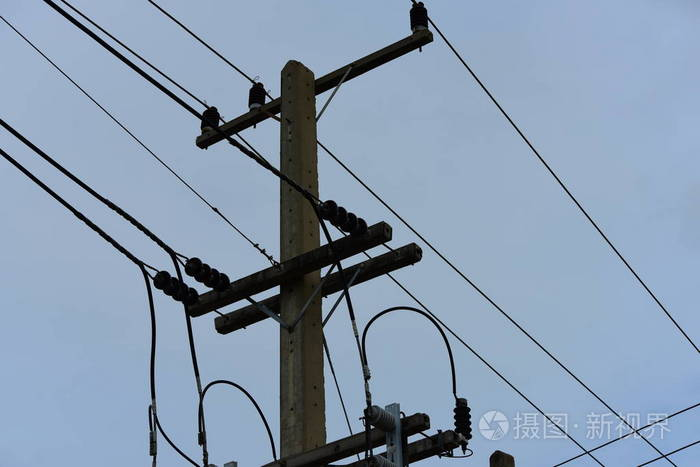insulator: (150, 269, 202, 306), (317, 199, 369, 231), (183, 259, 231, 291)
